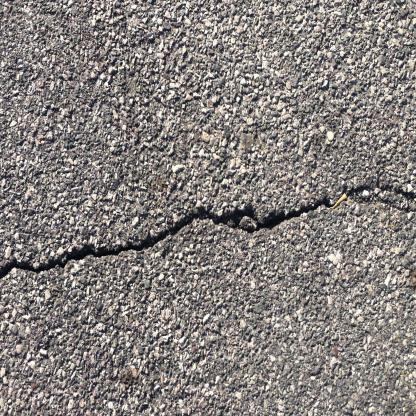Cracks: (0, 181, 416, 347)
